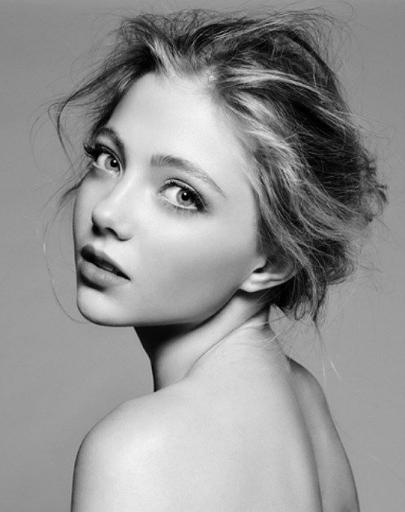left_eye: (157, 185, 210, 222)
left_lip_corner: (122, 267, 138, 284)
right_eye: (90, 152, 123, 178)
